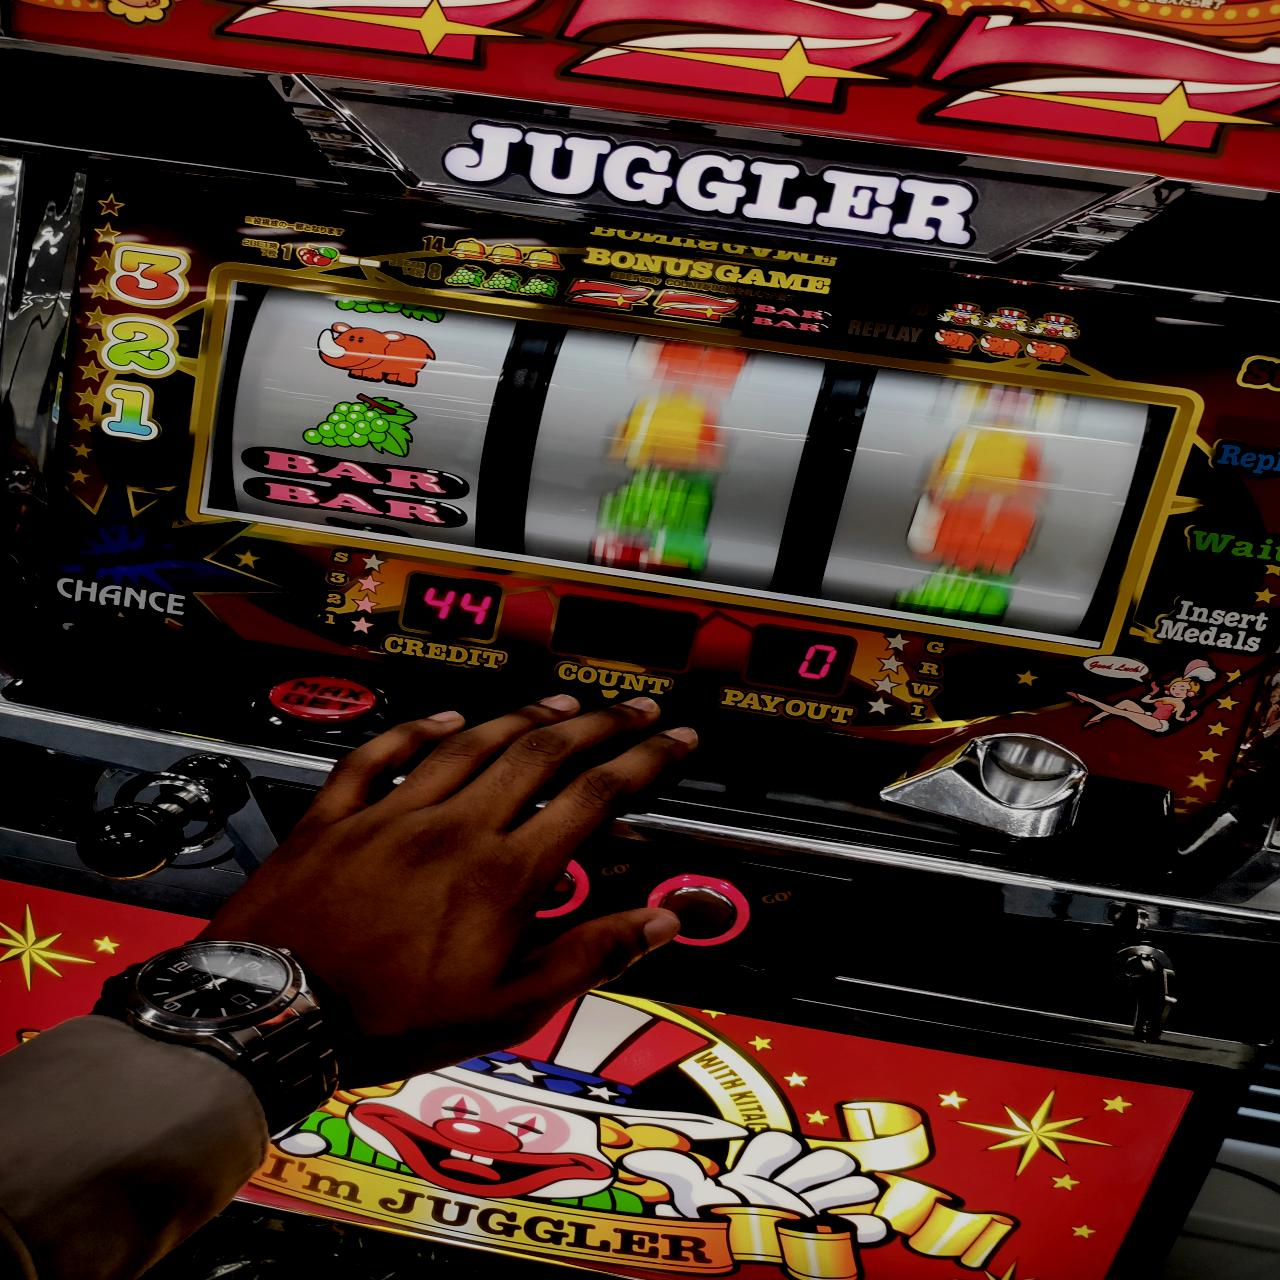8: (312, 321, 441, 387)
bar: (241, 445, 472, 531)
grape: (301, 390, 416, 458)
rhino: (223, 263, 1141, 656)
